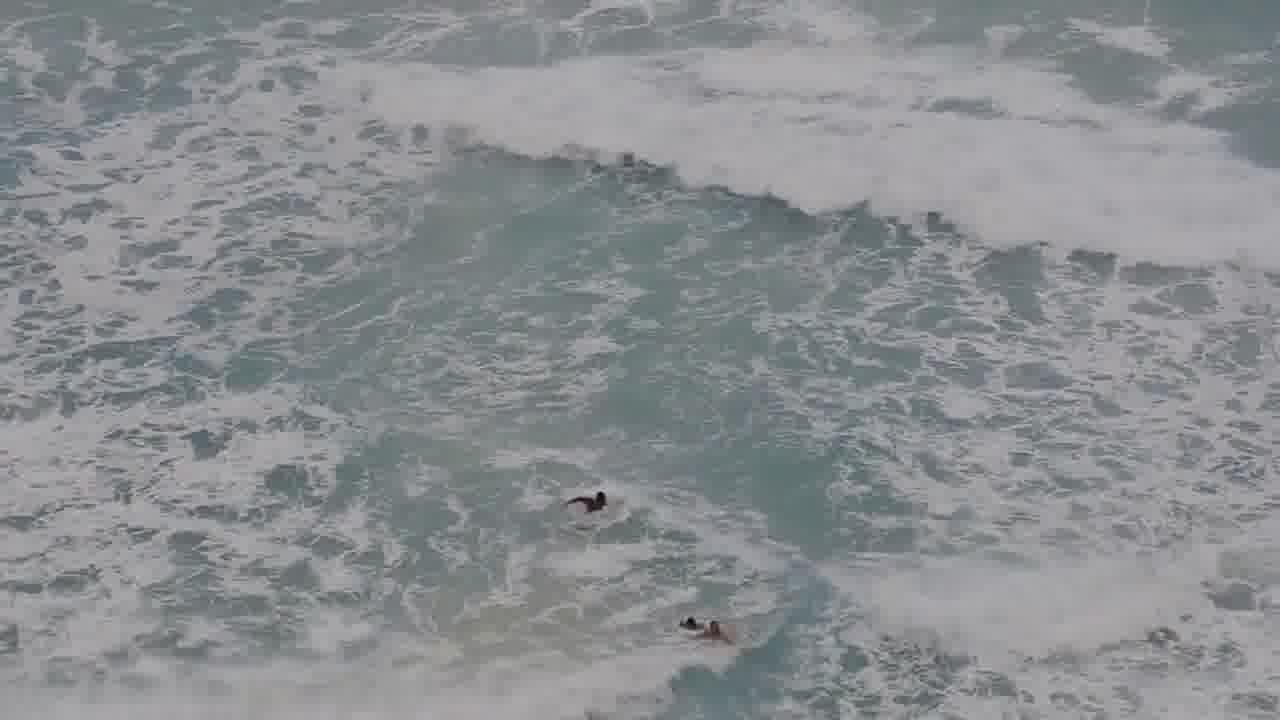human: (579, 478, 617, 523), (704, 611, 728, 646), (678, 604, 698, 626)
